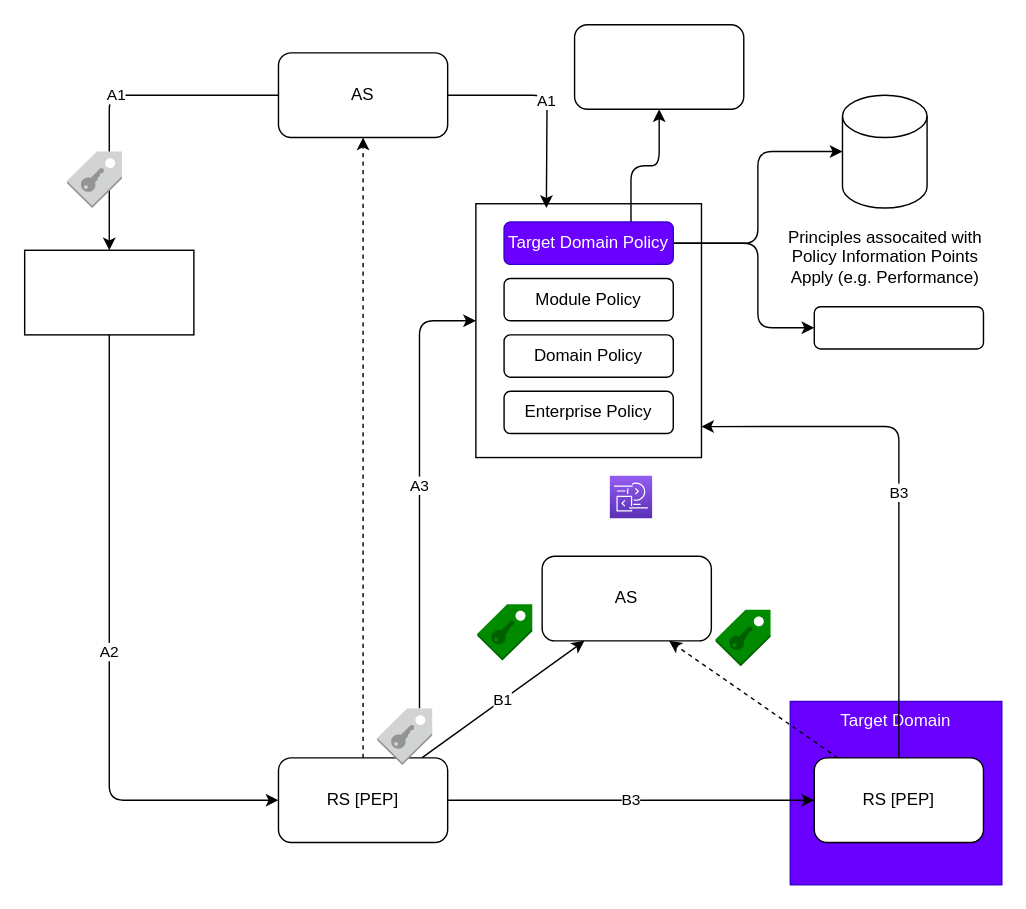
This 1026x909 diagram has some shape labels left out. The centre of each missing label's shape, as x and y in pixels:
"IdP" belongs at pixel 658 66.
"Limit" belongs at pixel 898 327.
"Public" belongs at pixel 108 292.
"Token Exchange" belongs at pixel 630 496.
